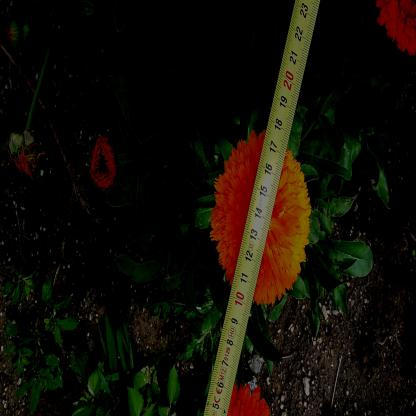marigold: (217, 135, 311, 302)
